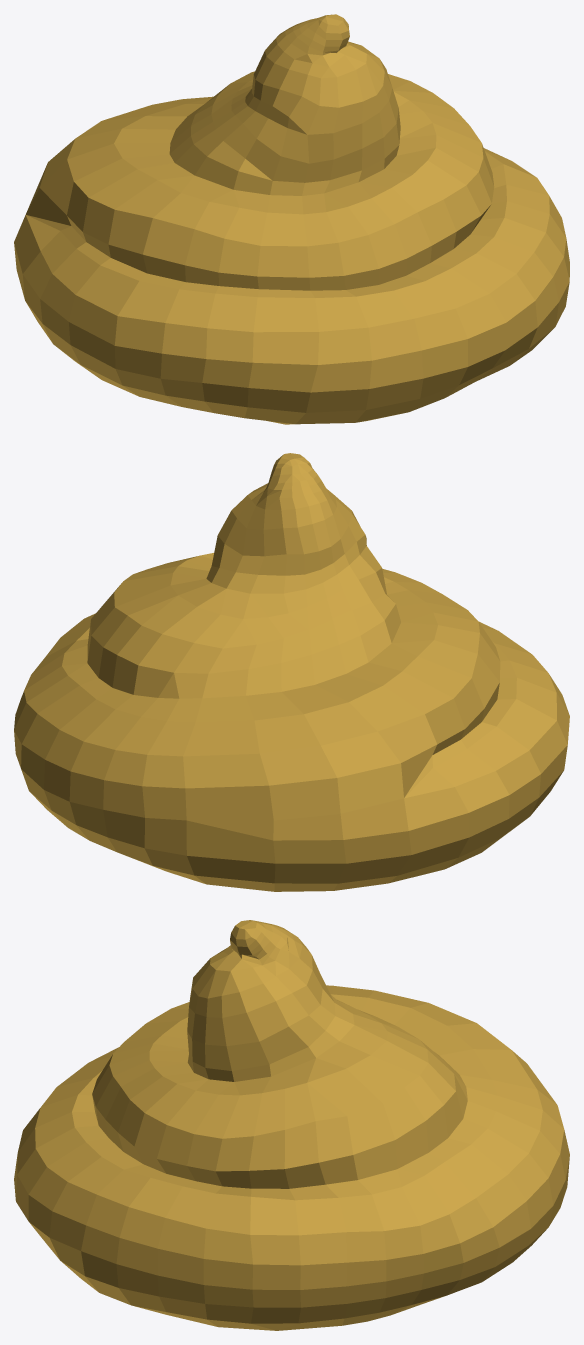
File: shit 1.fbx
3 renders of one model, top to bottom at view 1: azimuth 30°, elevation 25°; view 2: azimuth 150°, elevation 25°; view 3: azimuth 270°, elevation 25°, orthographic.
Parts seen in each view (by area): view 1: shit; view 2: shit; view 3: shit.
Boxes of the visible parts, <box> form: shit: <box>14,14,569,424</box>; shit: <box>14,453,569,891</box>; shit: <box>14,920,569,1330</box>.
Size of the model in its own units: 0.4522 by 0.3067 by 0.4607.
